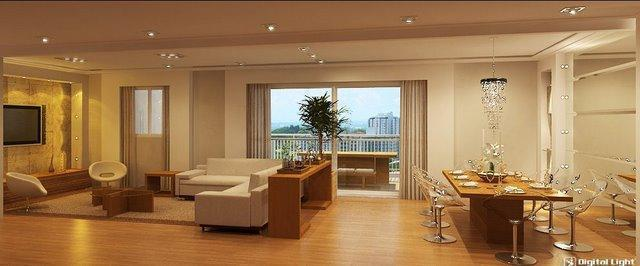Matera: (300, 93, 344, 162)
Ventana: (264, 92, 405, 191)
